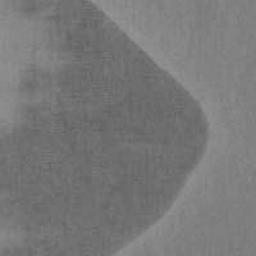Oil spot: (0, 0, 212, 256)
